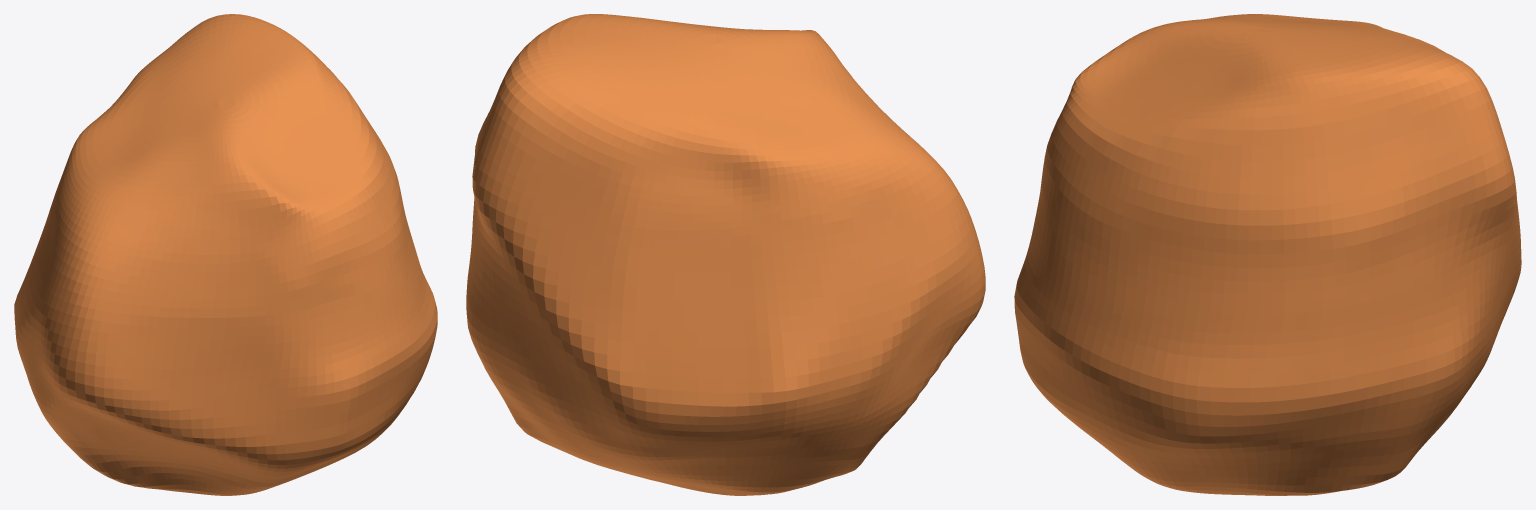
File: Desert_Rock6.fbx
3 views of the same model, side by side, from view 1: azimuth 30°, elevation 25°; view 2: azimuth 150°, elevation 25°; view 3: azimuth 270°, elevation 25° (orthographic). The views are drawn at different scales.
Visible parts, largest first — view 1: Sphere.004; view 2: Sphere.004; view 3: Sphere.004.
Boxes of the visible parts, <box> form: Sphere.004: <box>14,14,437,495</box>; Sphere.004: <box>466,14,985,495</box>; Sphere.004: <box>1014,14,1521,495</box>.
Size of the model in its own units: 159 by 147 by 151.
